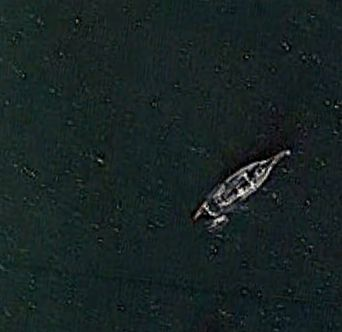boat: (199, 145, 293, 219)
